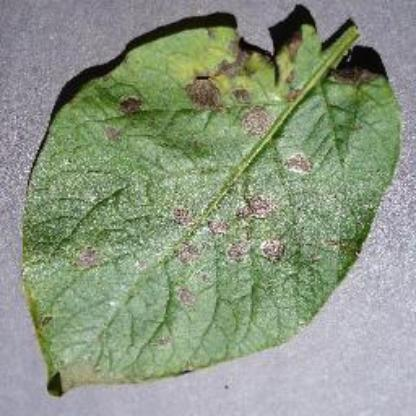Early-Blight: (21, 18, 407, 396)
